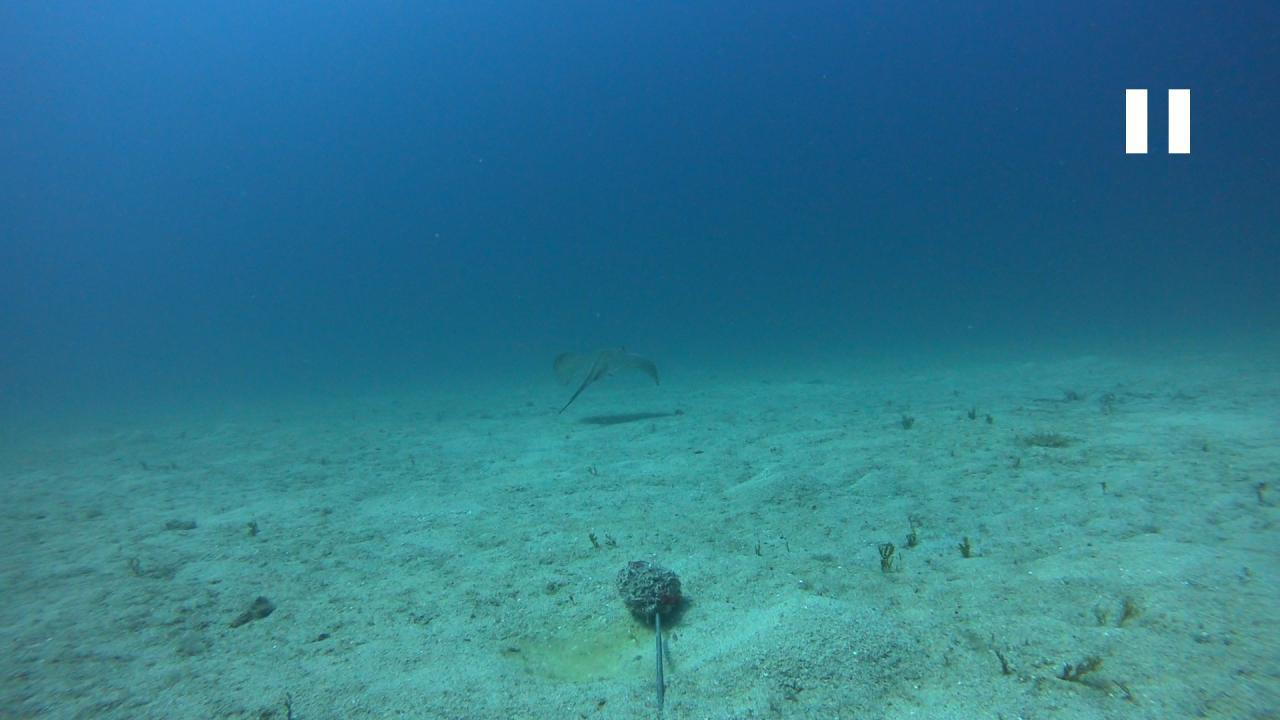dasyatis: (552, 341, 660, 417)
